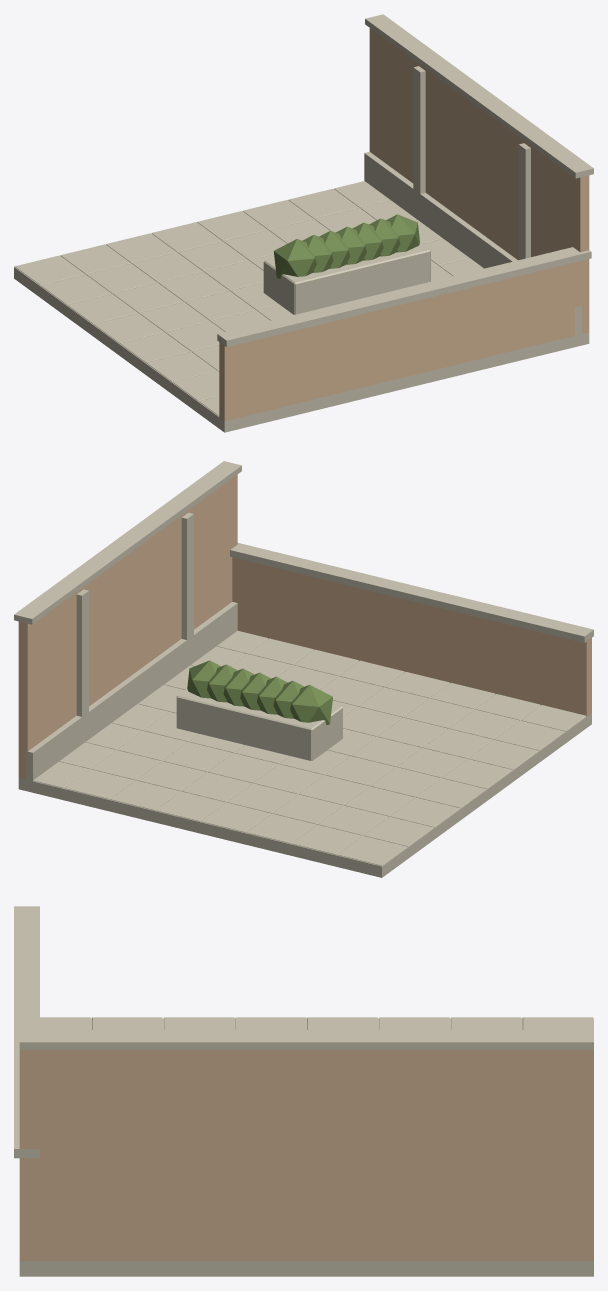
Rendered from district-2-2-0.glb.
3 views of the same model, one above another, from view 1: azimuth 30°, elevation 25°; view 2: azimuth 150°, elevation 25°; view 3: azimuth 270°, elevation 25° (orthographic). The views are drawn at different scales.
Parts seen in each view (by area): view 1: stone.008, plaster.007, leaf.002; view 2: stone.008, plaster.007, leaf.002; view 3: plaster.007, stone.008.
Part boxes in pixels (bbox=[...]): stone.008: bbox=[14, 14, 593, 432]; plaster.007: bbox=[219, 28, 589, 421]; leaf.002: bbox=[273, 214, 419, 278]; stone.008: bbox=[14, 461, 593, 877]; plaster.007: bbox=[18, 474, 591, 779]; leaf.002: bbox=[187, 660, 332, 724]; plaster.007: bbox=[19, 1050, 593, 1260]; stone.008: bbox=[14, 906, 593, 1276].
Bounding box in the file's own units: 8.1 × 3.65 × 8.08.
